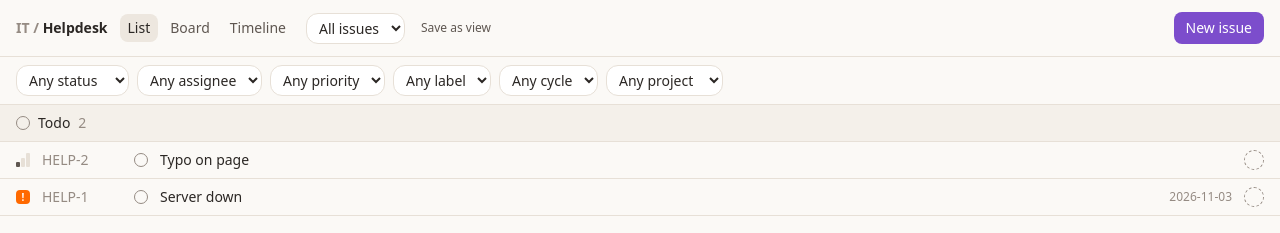
Test case: saved views on the team page (SPEC §5.4) › opens a saved view with its filters
Expected: the text "Typo on page" is shown, [160, 150, 249, 169]
Select "Urgent" in the dropdown named "Saved view" at (355, 28), box [306, 12, 405, 44]
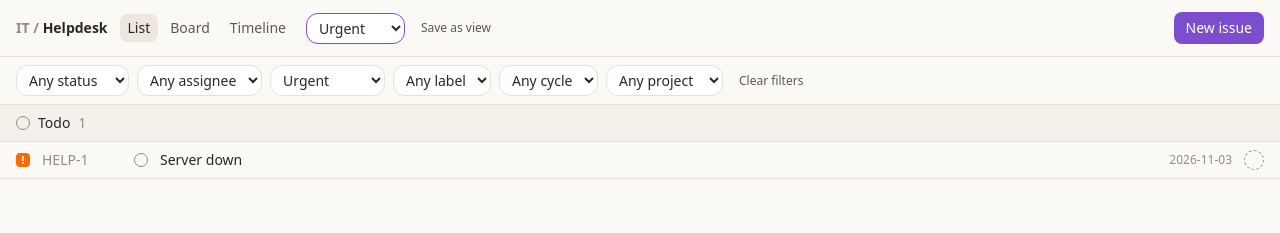
Expected: the text "Server down" is shown, [160, 150, 242, 169]
Expected: the link "Typo on page" is gone
